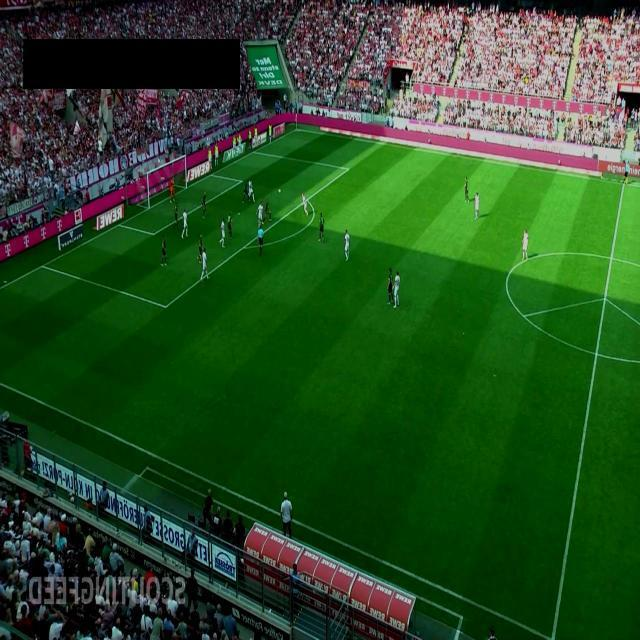Ball: (278, 188, 282, 194)
Corner: (295, 110, 298, 130)
GoalKeeper: (168, 174, 176, 204)
Referee: (622, 158, 630, 186), (258, 223, 264, 257)
TEAM 1: (200, 247, 208, 281), (394, 270, 401, 308), (181, 208, 189, 240), (521, 228, 529, 260), (256, 200, 264, 228), (344, 229, 351, 261), (219, 217, 226, 248), (301, 192, 309, 216), (474, 192, 480, 220), (248, 178, 255, 202)
TEAM 2: (386, 267, 394, 305), (262, 196, 272, 224), (318, 212, 325, 242), (241, 180, 250, 203), (161, 235, 167, 267), (173, 202, 179, 230), (198, 233, 204, 260), (464, 176, 469, 204), (202, 191, 206, 219), (228, 212, 232, 238)
